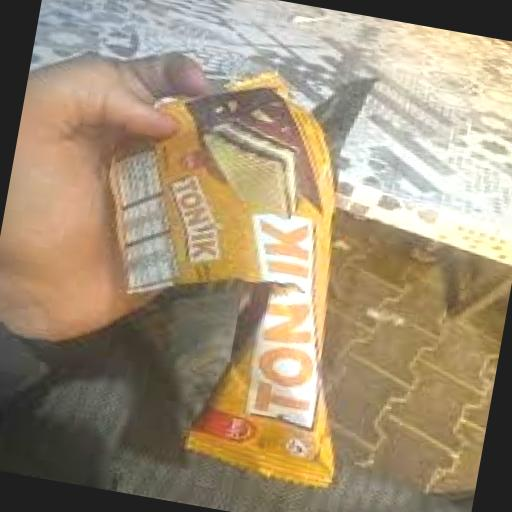tonik: (11, 24, 470, 498)
